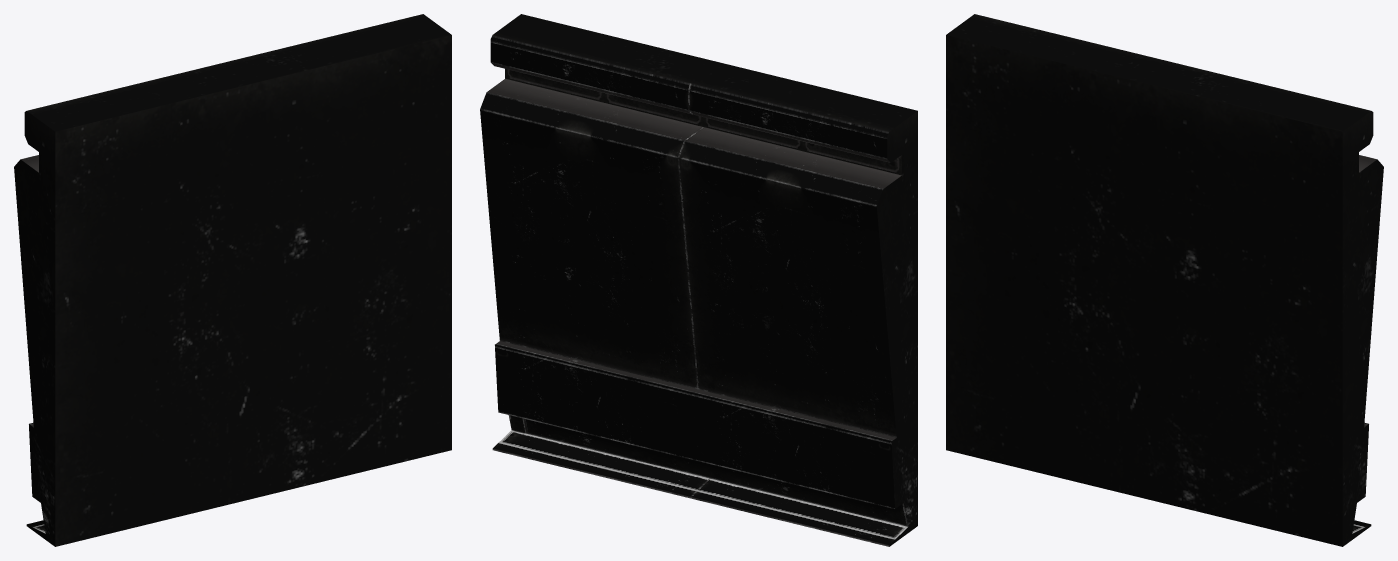
File: SM_Wall.FBX
The picture shows the model from 3 angles, left to right: view 1: azimuth 30°, elevation 25°; view 2: azimuth 150°, elevation 25°; view 3: azimuth 330°, elevation 25°; orthographic projection.
Parts seen in each view (by area): view 1: SM_Wall_A; view 2: SM_Wall_A; view 3: SM_Wall_A.
Part boxes in pixels (x1,y1,x2,y2): SM_Wall_A: (14,14,451,546); SM_Wall_A: (480,14,917,546); SM_Wall_A: (946,14,1383,546).
Bounding box in the file's own units: 400 × 400 × 71.98.
Materials: 1 (1 with a texture image).
